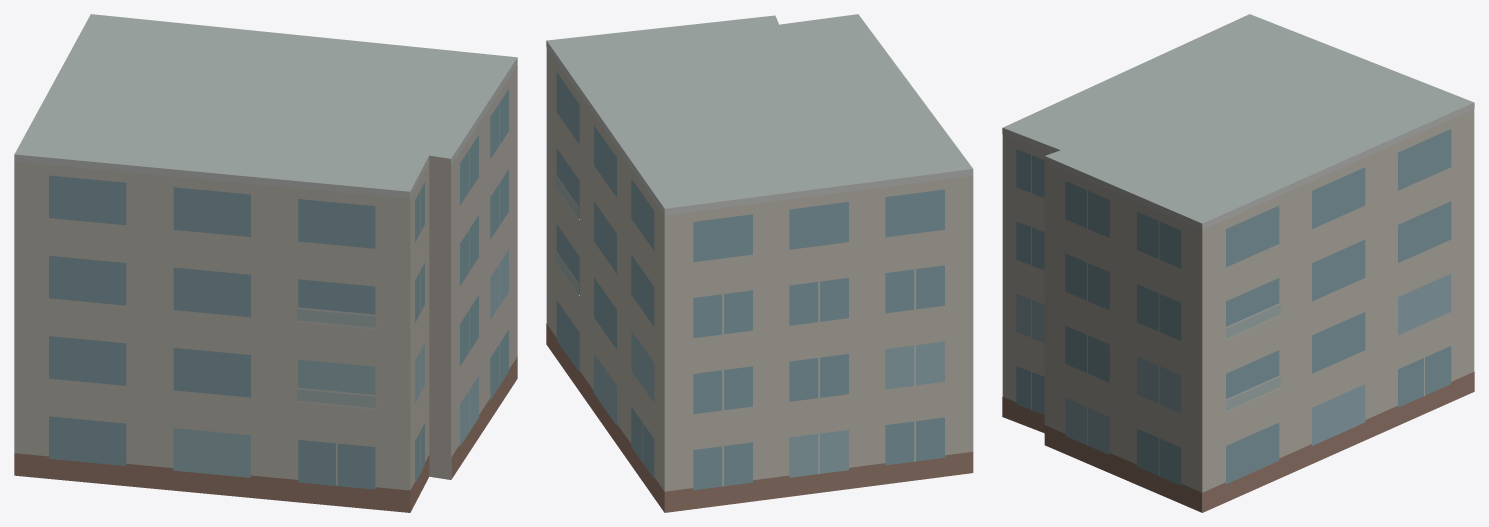
The model's file is survey-upis-32749081.glb.
The picture shows the model from 3 angles, left to right: view 1: azimuth 30°, elevation 25°; view 2: azimuth 150°, elevation 25°; view 3: azimuth 270°, elevation 25°; orthographic projection. The views are drawn at different scales.
Visible parts, largest first — view 1: survey-upis-32749081.tmp; view 2: survey-upis-32749081.tmp; view 3: survey-upis-32749081.tmp.
Boxes of the visible parts, <box> form: survey-upis-32749081.tmp: <box>14,14,517,512</box>; survey-upis-32749081.tmp: <box>546,14,973,512</box>; survey-upis-32749081.tmp: <box>1002,14,1474,512</box>.
Size of the model in its own units: 16.95 by 10.9 by 16.12.
